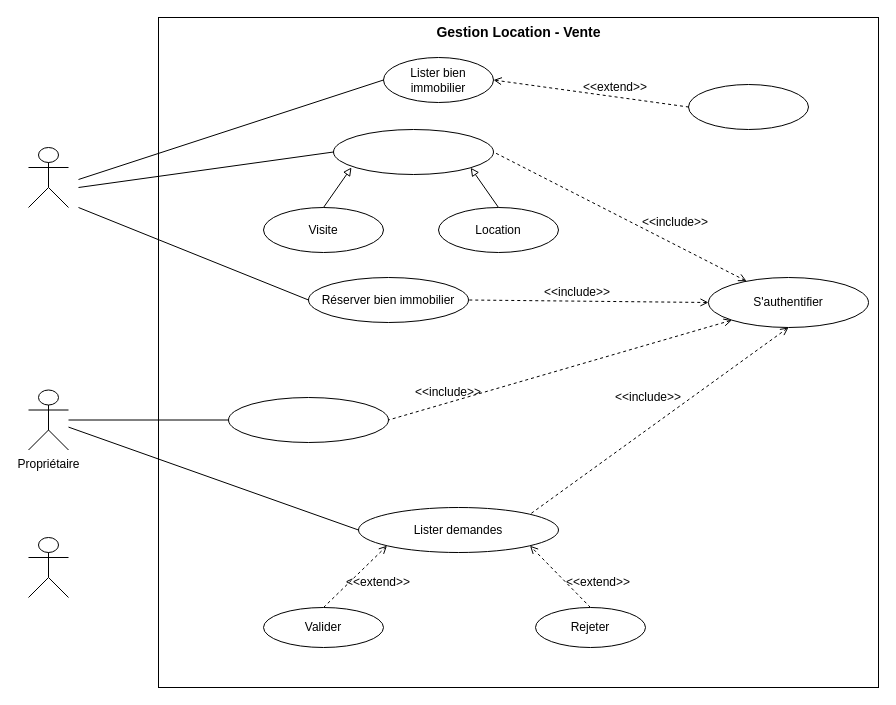
Some shapes in this 896 by 705 pixel diagram are drawn without their labels. Here are the shapes that lost their labels. From the top down, the centre of each, then its label:
At point 748,107: "Voir détail".
At point 413,151: "Faire des demandes".
At point 48,177: "Locataire".
At point 308,419: "Voir ses locataires".
At point 48,567: "Admin".
